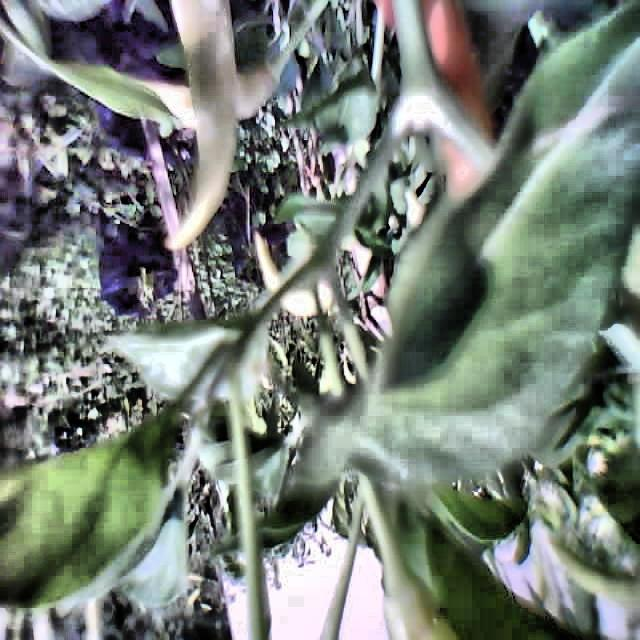Cabai: (407, 0, 521, 172)
